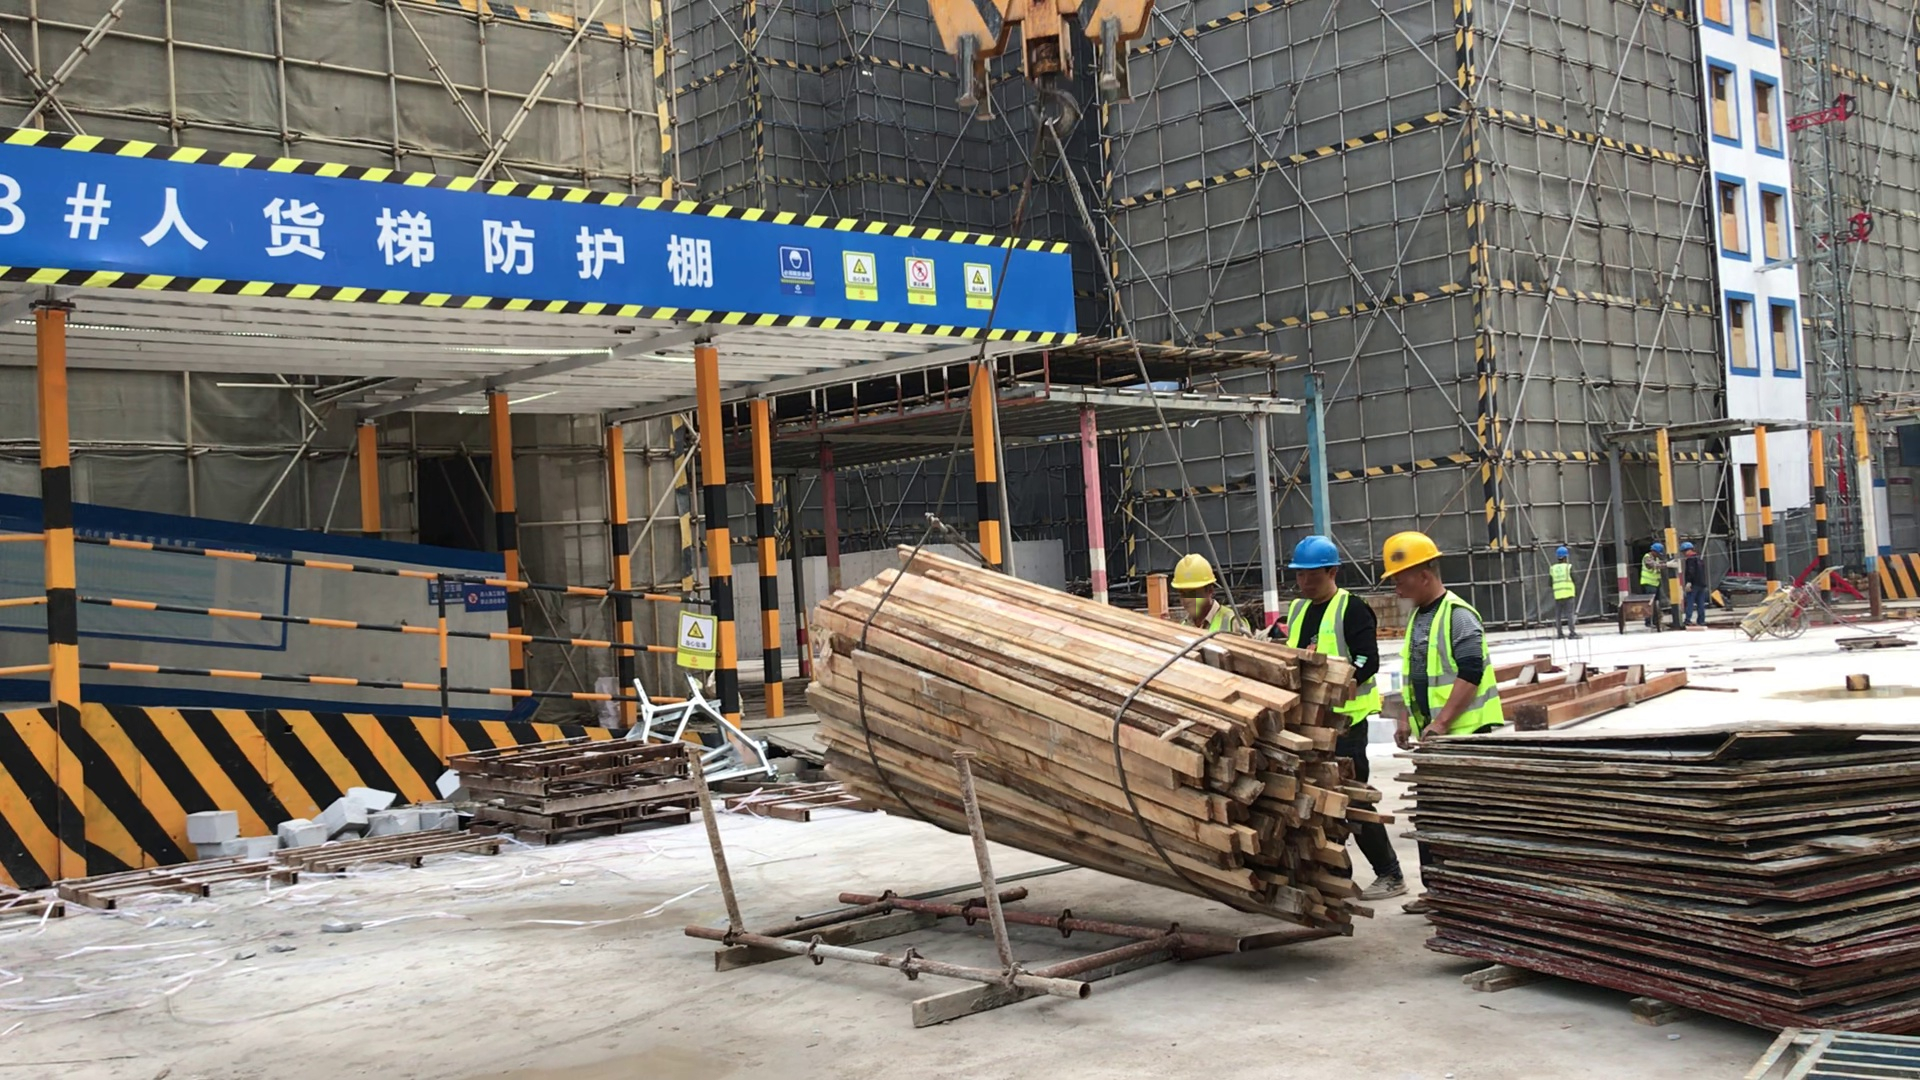board: (1391, 701, 1920, 1044)
brick: (175, 780, 487, 887)
ebox: (1137, 568, 1175, 619)
fence: (2, 505, 733, 741)
handcart: (1739, 561, 1849, 651), (1614, 589, 1665, 634)
helmet: (1288, 533, 1367, 585), (1377, 530, 1448, 588), (1165, 545, 1225, 601), (1551, 544, 1575, 562), (1646, 542, 1668, 558), (1680, 541, 1697, 555)
hook: (890, 1, 1204, 208)
person: (1370, 518, 1528, 918), (1277, 527, 1416, 919), (1158, 542, 1255, 637), (1544, 537, 1586, 643), (1675, 534, 1712, 633), (1639, 538, 1669, 632)
slogan: (1, 114, 1106, 373), (3, 481, 546, 726), (671, 601, 725, 685)
vest: (1402, 595, 1513, 736), (1286, 590, 1386, 725), (1183, 604, 1248, 635), (1638, 549, 1665, 589), (1551, 561, 1577, 601)
wood: (810, 539, 1415, 950)
